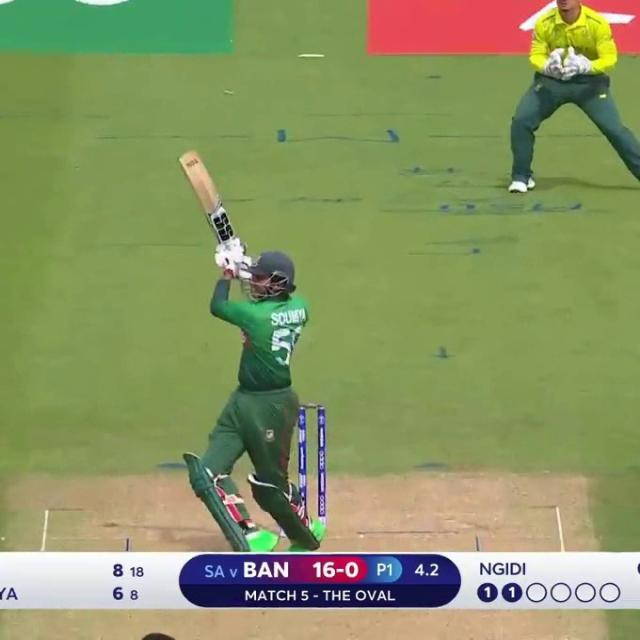bat: (175, 152, 234, 242)
toe: (170, 147, 197, 161)
